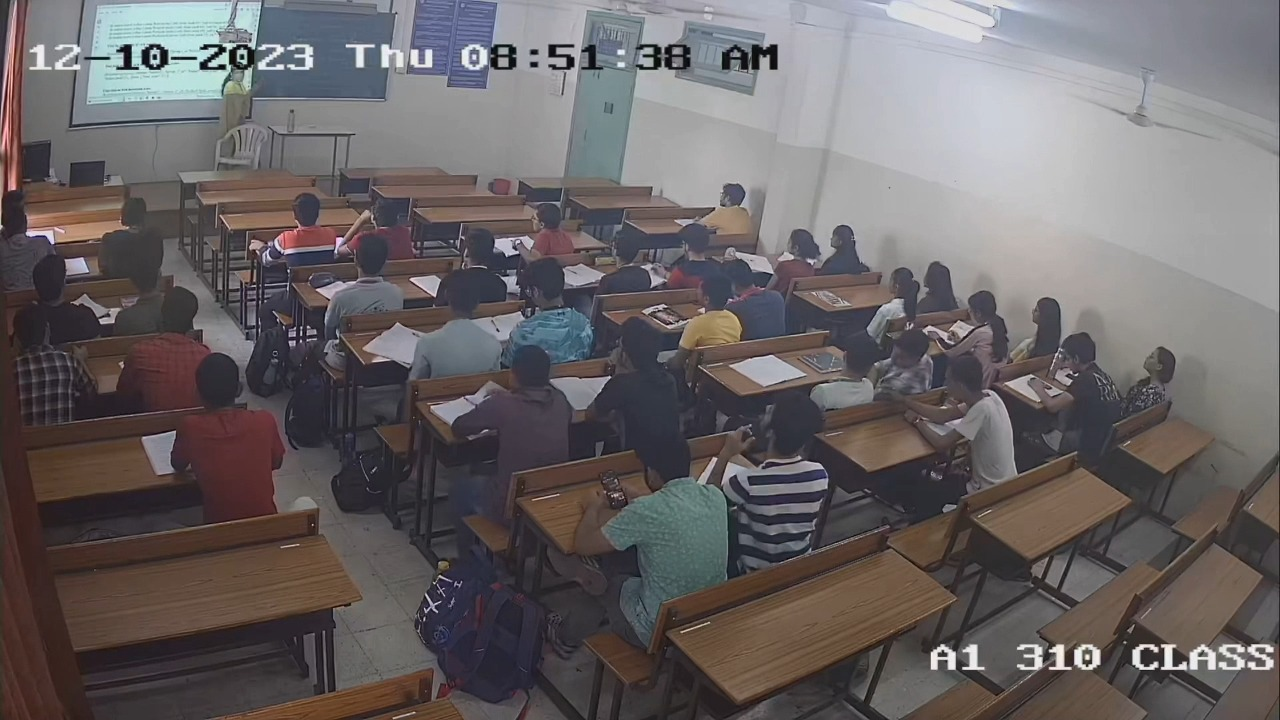cell-phones: (595, 468, 631, 511), (593, 254, 615, 267)
person: (597, 431, 729, 587), (598, 229, 652, 292)
